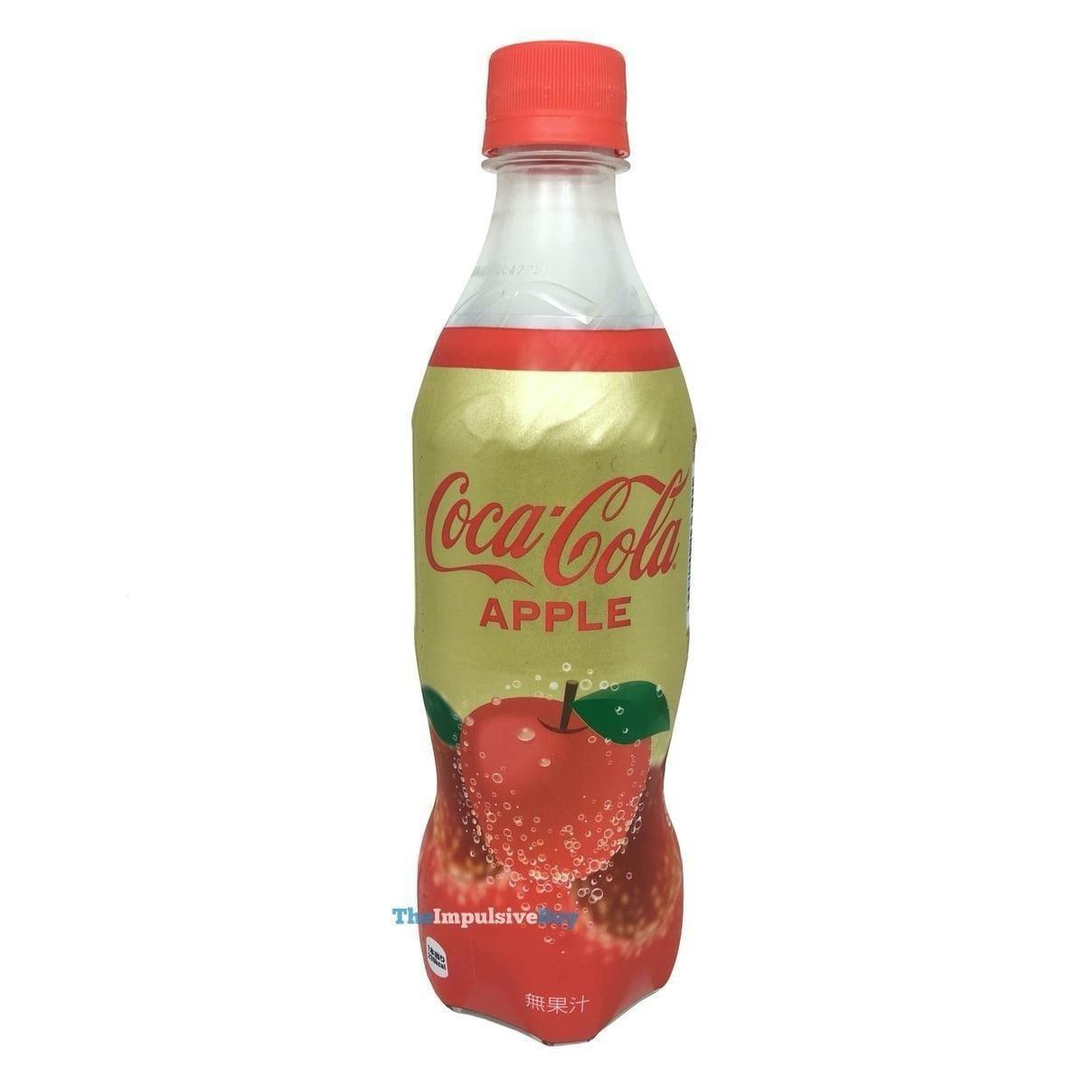bottle-plastic: (403, 27, 705, 1061)
